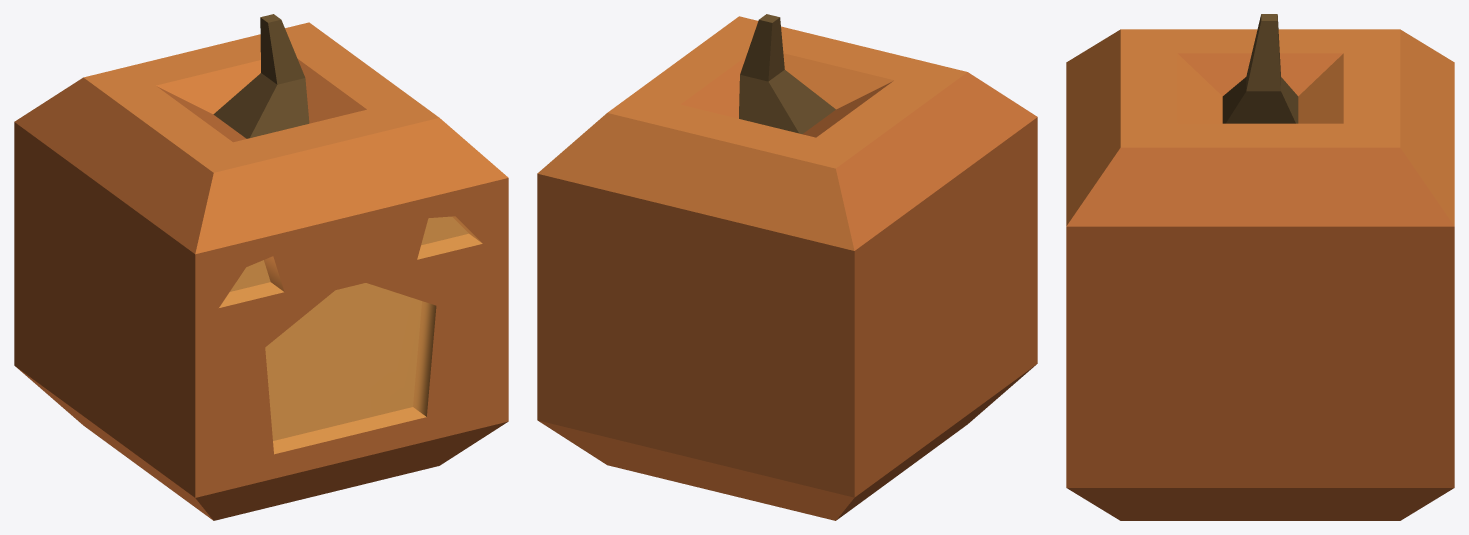
The model's file is SC_Halloween_Pumpkin_05.fbx.
3 views of the same model, side by side, from view 1: azimuth 30°, elevation 25°; view 2: azimuth 150°, elevation 25°; view 3: azimuth 270°, elevation 25° (orthographic). The views are drawn at different scales.
Visible parts, largest first — view 1: SC_Halloween_Pumpkin_05; view 2: SC_Halloween_Pumpkin_05; view 3: SC_Halloween_Pumpkin_05.
Boxes of the visible parts, left/top/right/bottom form: SC_Halloween_Pumpkin_05: left=14, top=14, right=508, bottom=520; SC_Halloween_Pumpkin_05: left=537, top=14, right=1037, bottom=520; SC_Halloween_Pumpkin_05: left=1066, top=14, right=1454, bottom=520.
Size of the model in its own units: 0.6169 by 0.7915 by 0.6169.
